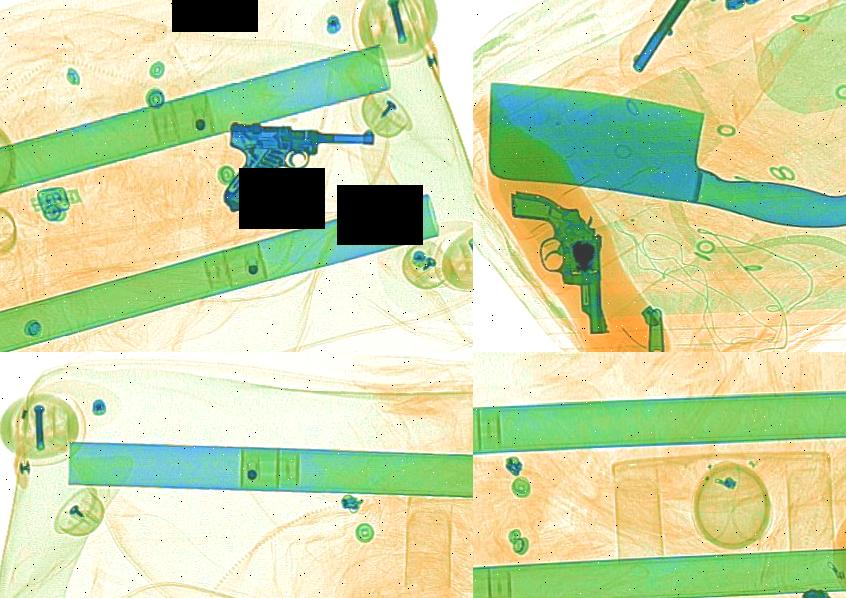Gun: (620, 0, 811, 101), (504, 181, 615, 340), (211, 115, 378, 220)
Knife: (473, 58, 846, 249)
